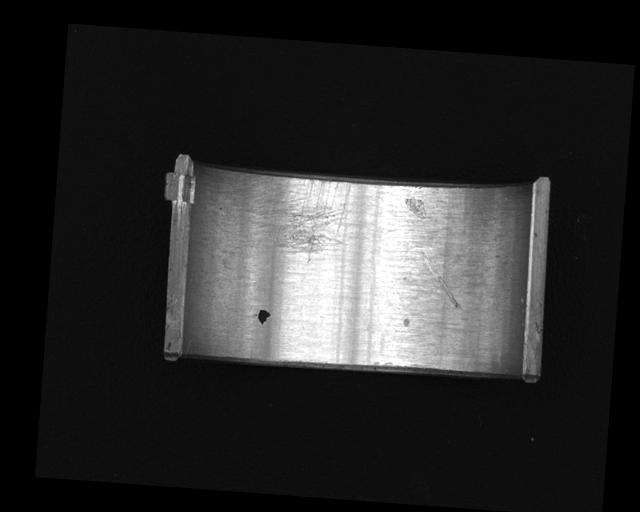blot: (256, 308, 271, 325)
bruise: (402, 195, 430, 219), (402, 316, 410, 329)
nick: (418, 249, 463, 308)
scratch: (221, 172, 352, 266)
